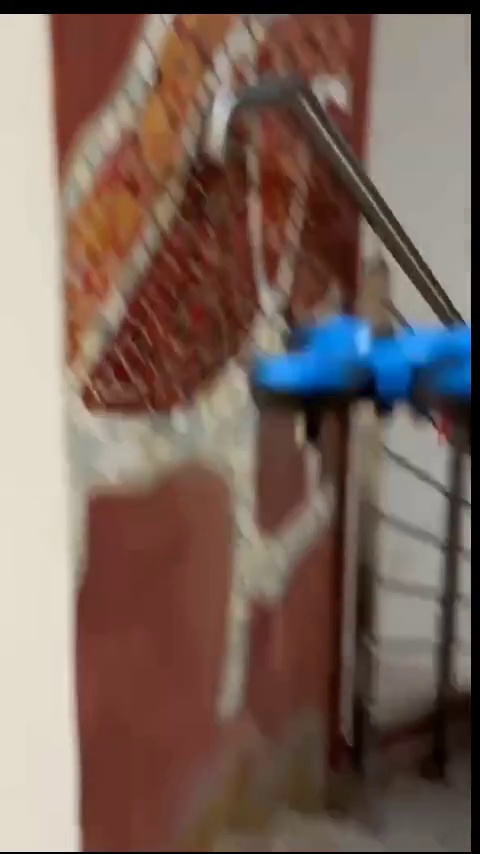drone: (255, 317, 474, 452)
